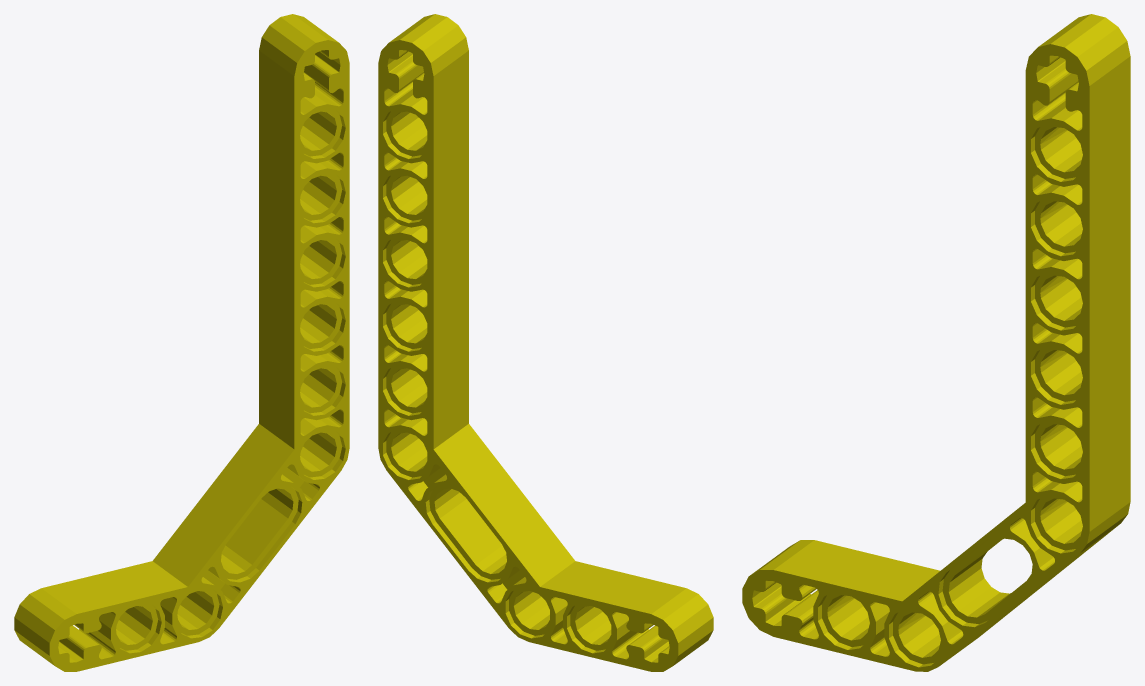
Rendered from Black_4111998_JC.fbx.
The picture shows the model from 3 angles, left to right: view 1: azimuth 30°, elevation 25°; view 2: azimuth 150°, elevation 25°; view 3: azimuth 330°, elevation 25°; orthographic projection. The views are drawn at different scales.
Visible parts, largest first — view 1: Black_4111998_JC; view 2: Black_4111998_JC; view 3: Black_4111998_JC.
Boxes of the visible parts, bbox=[...] form: Black_4111998_JC: bbox=[14, 14, 349, 671]; Black_4111998_JC: bbox=[378, 14, 713, 671]; Black_4111998_JC: bbox=[742, 14, 1130, 671].
Bounding box in the file's own units: 3.91 × 7.11 × 0.8.
